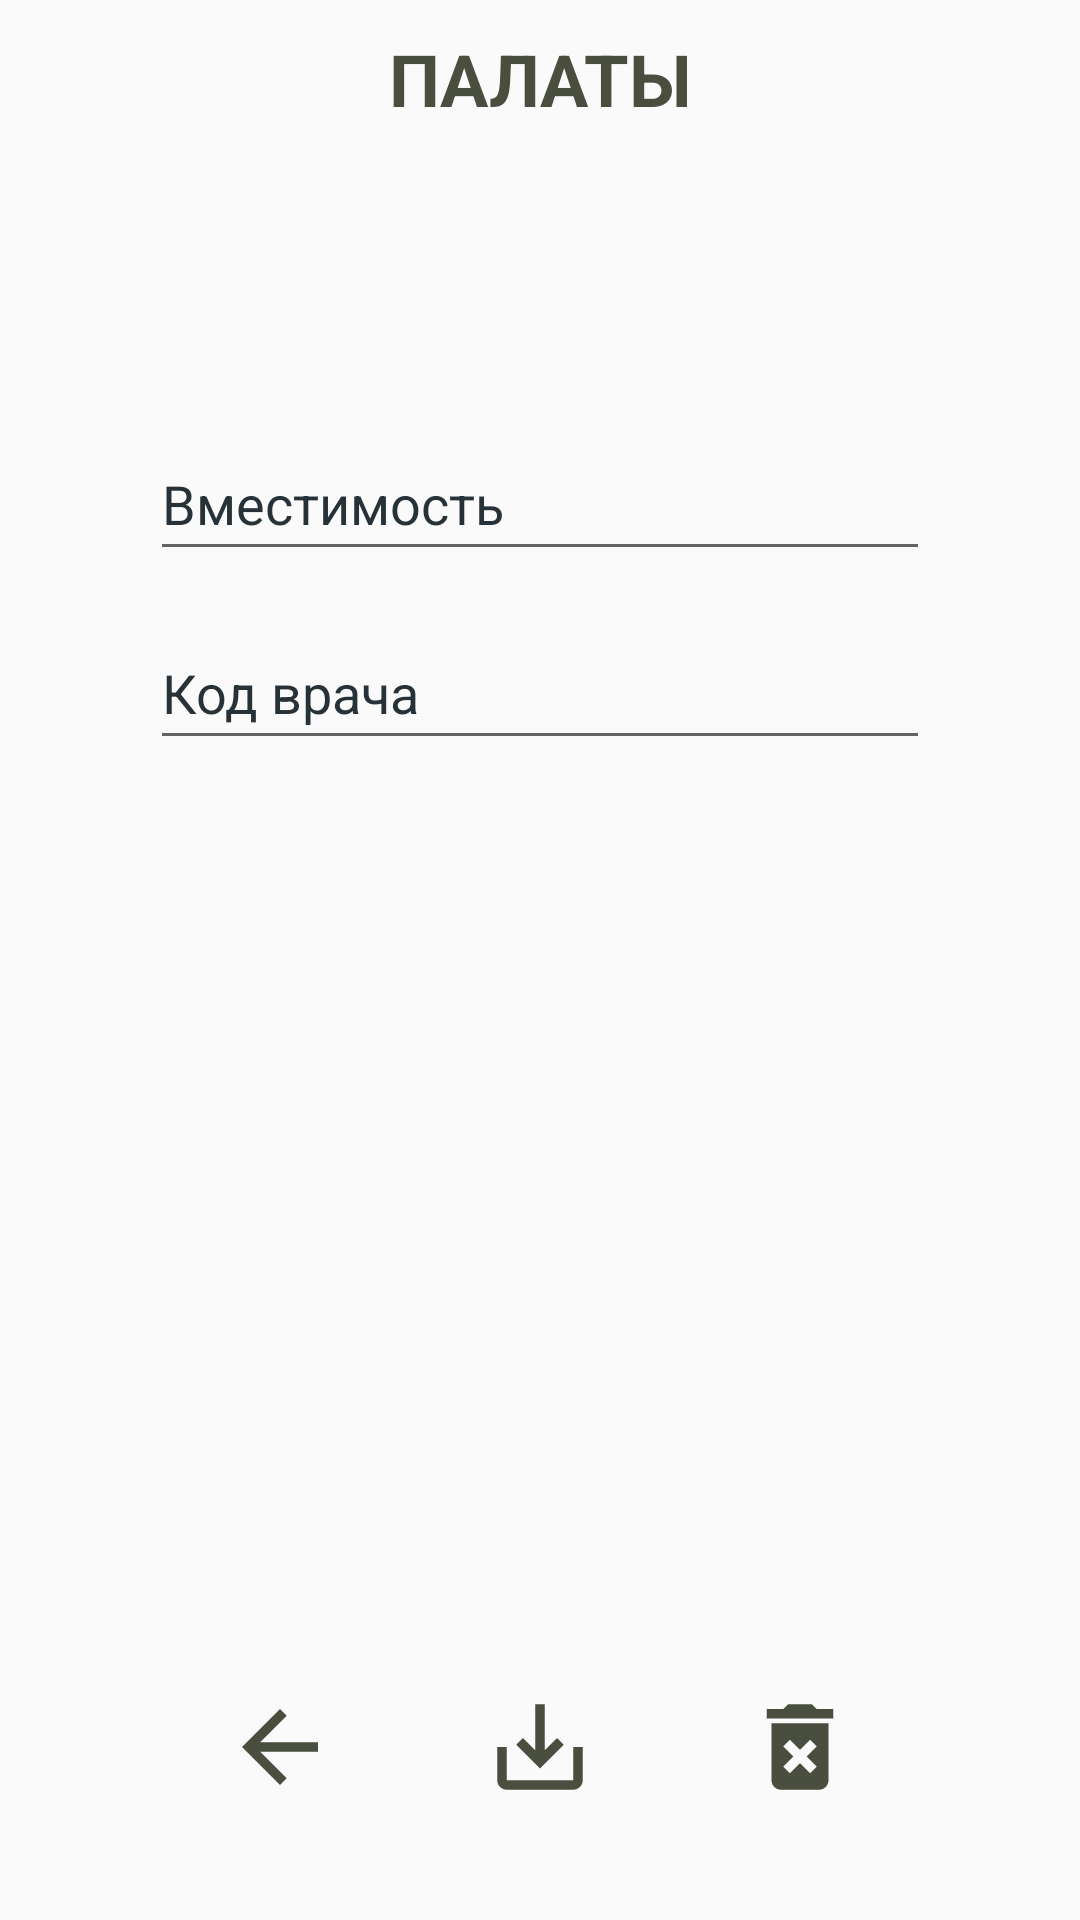

Screen size 1080px x 1920px. Icon name, then its box in pixels as (x1, y1, x2, y2):
back: (242, 1709, 318, 1785)
delete: (766, 1704, 834, 1790)
save: (497, 1704, 583, 1790)
